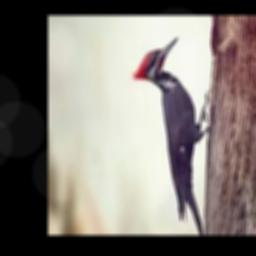Woodpecker: (133, 36, 211, 235)
